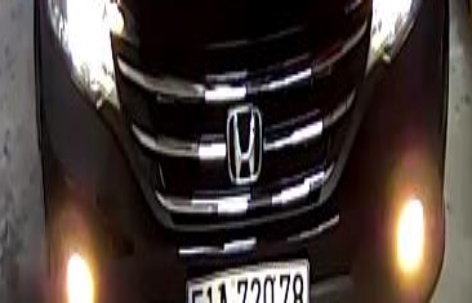plate: (180, 258, 313, 303)
